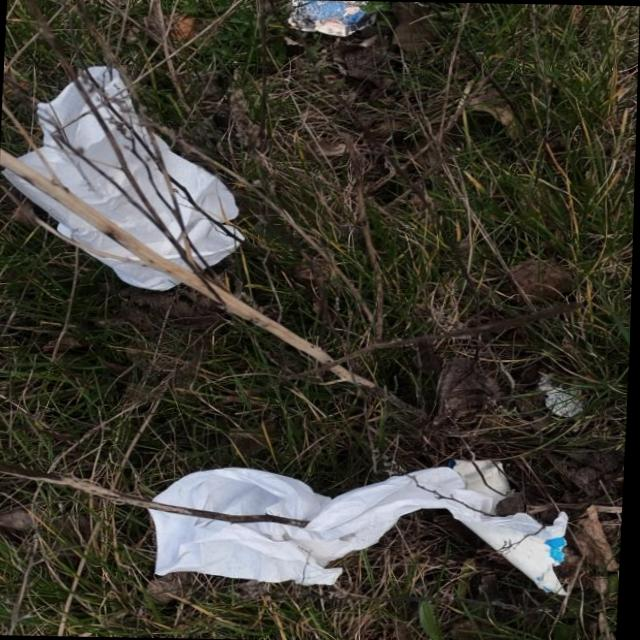Paper: (145, 433, 582, 598), (0, 63, 254, 292), (281, 0, 378, 37)
Plastic: (535, 371, 589, 417)
